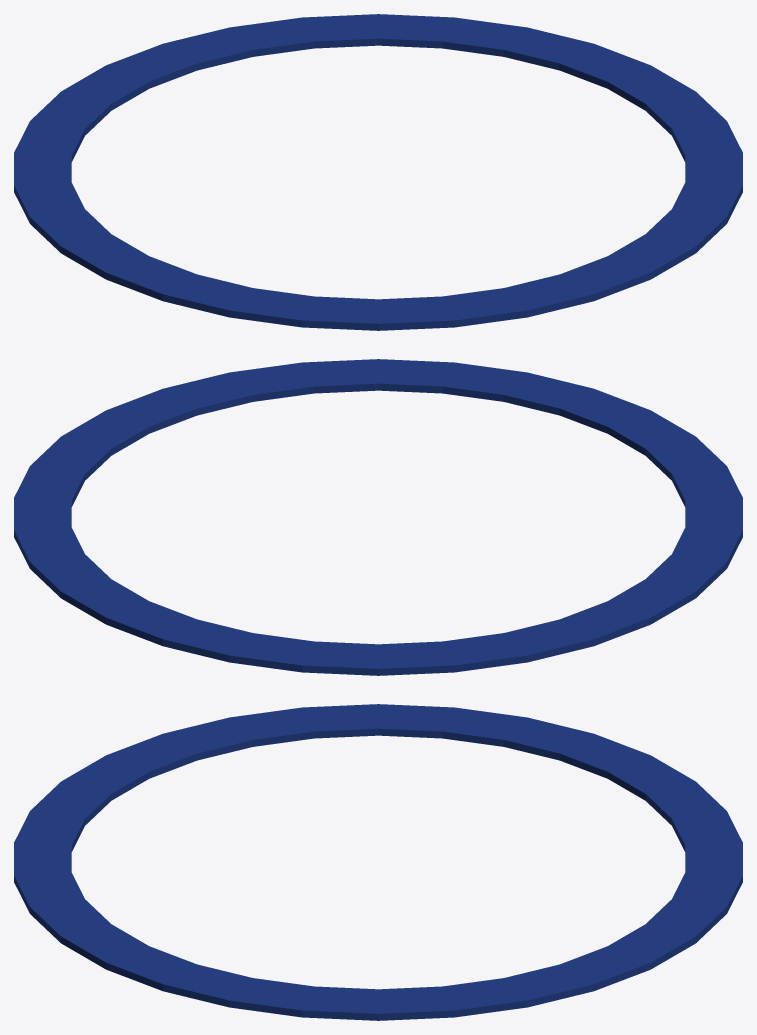
File: Blue_circle.gltf
3 renders of one model, top to bottom at view 1: azimuth 30°, elevation 25°; view 2: azimuth 150°, elevation 25°; view 3: azimuth 270°, elevation 25°, orthographic.
Parts seen in each view (by area): view 1: Blue; view 2: Blue; view 3: Blue.
Part boxes in pixels (x1,y1,x2,y2): Blue: [14, 14, 742, 330]; Blue: [14, 359, 742, 675]; Blue: [14, 704, 742, 1020].
Bounding box in the file's own units: 0.4593 × 0.00485 × 0.4568.
